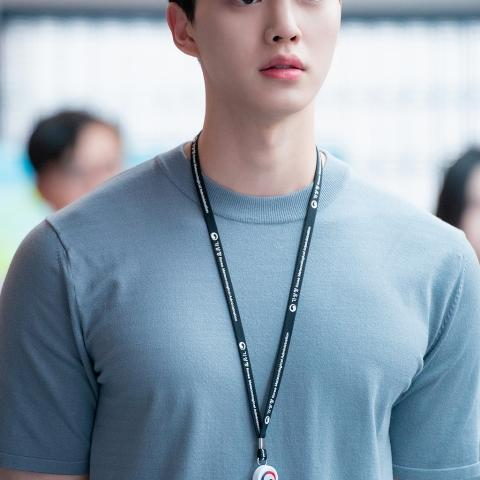opened: (215, 0, 344, 22)
